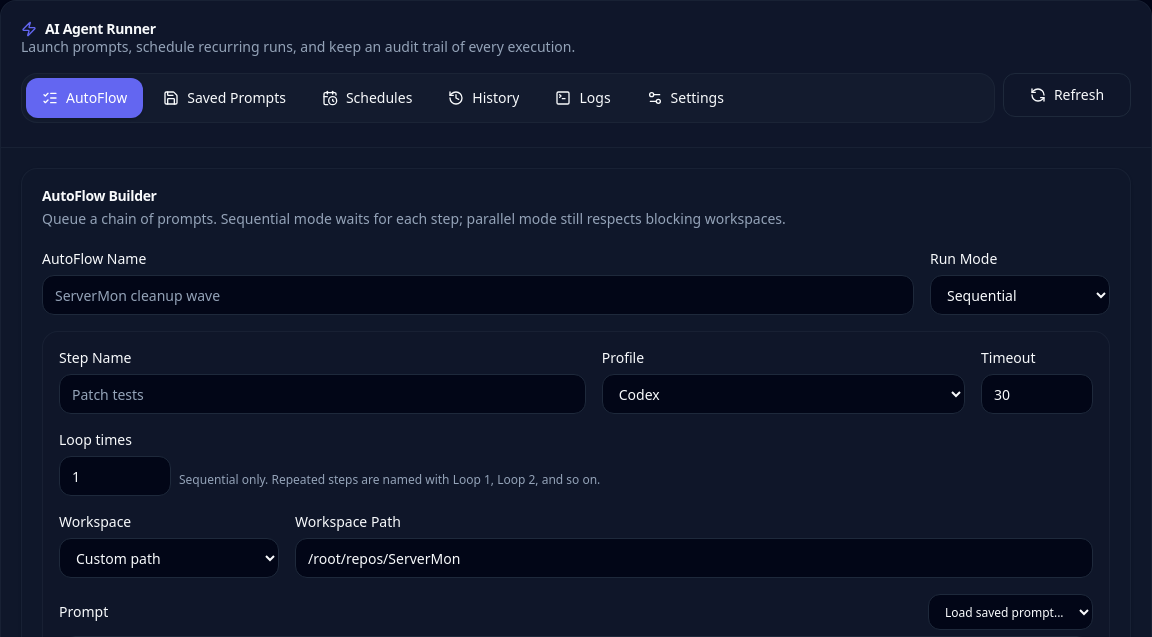
Test: AIRunnerPage › keeps settings summary cards on one wide row
This screenshot has width=1152, height=637.
Expected: the heading "AI Agent Runner" is shown, [21,19,156,38]
Click the tab "Settings" at point(685, 98), box [631,78,740,118]
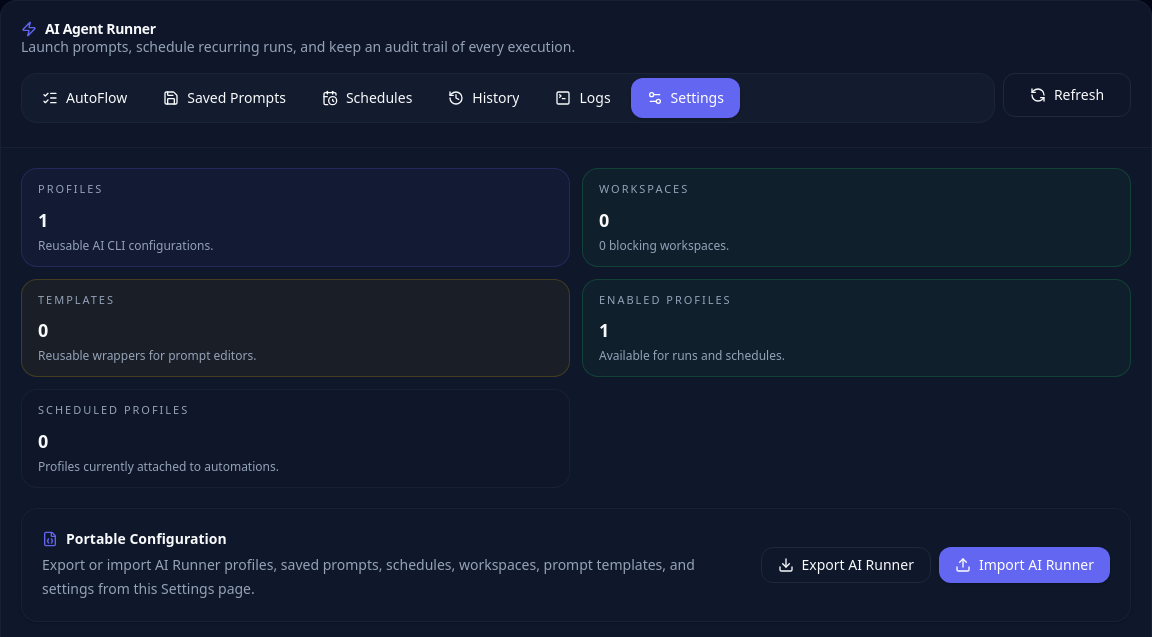
Result: the text "Scheduled Profiles" is shown at [38,402,189,417]
